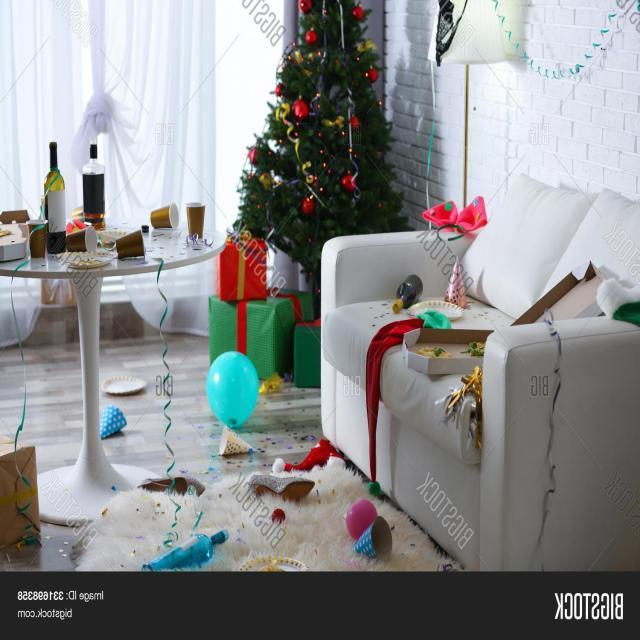couch: (321, 172, 640, 570)
